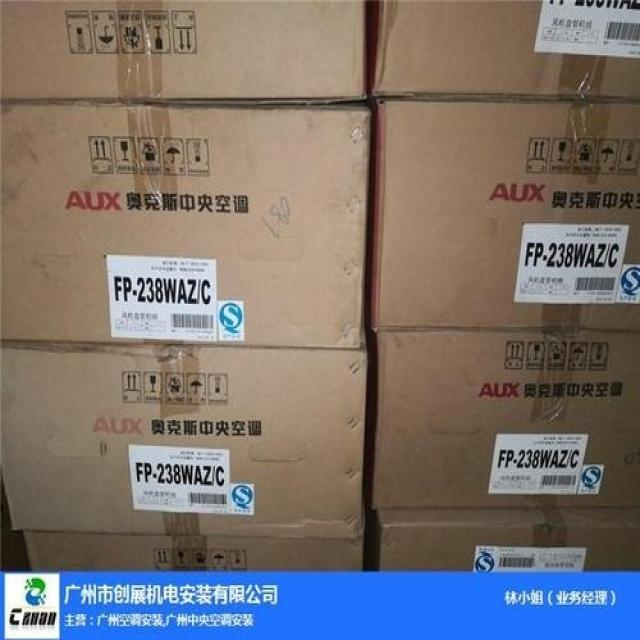box: (1, 100, 372, 347), (0, 327, 367, 540), (371, 98, 638, 333), (372, 332, 639, 510), (1, 0, 367, 105), (371, 0, 639, 98), (371, 508, 639, 571), (22, 530, 365, 572)
